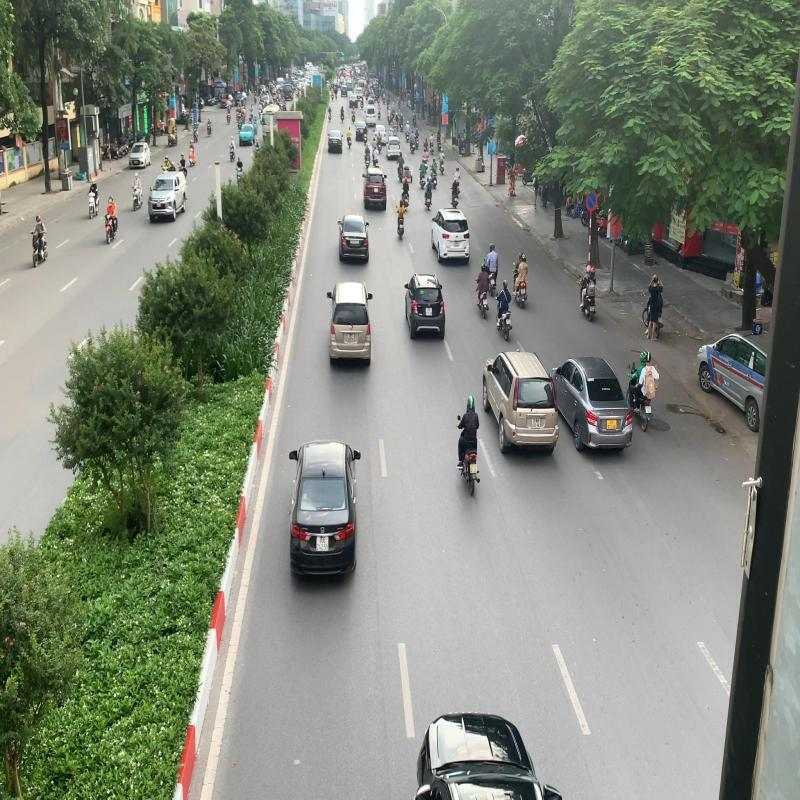helmet: (466, 395, 475, 411), (640, 350, 646, 362), (646, 351, 652, 362)
licenseplate: (470, 464, 478, 474), (646, 405, 652, 414)
motorcyclist: (625, 350, 660, 433), (456, 395, 482, 497)
